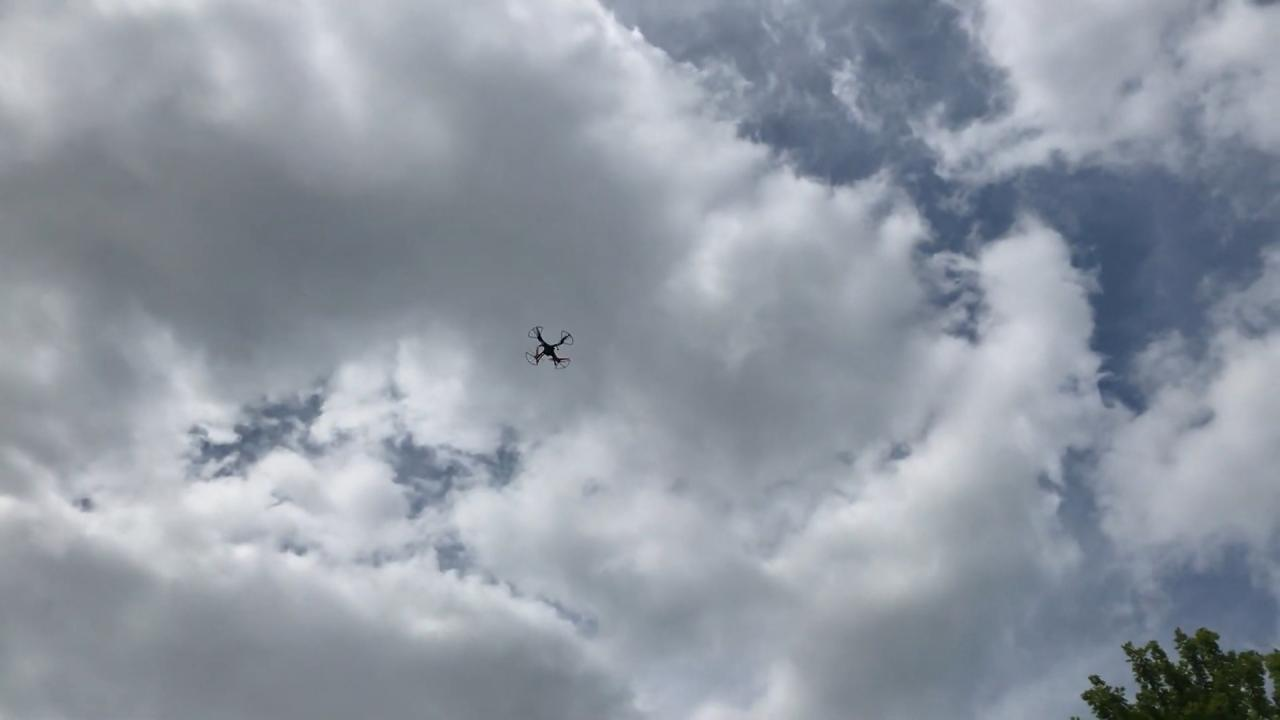Drone: (512, 314, 585, 386)
